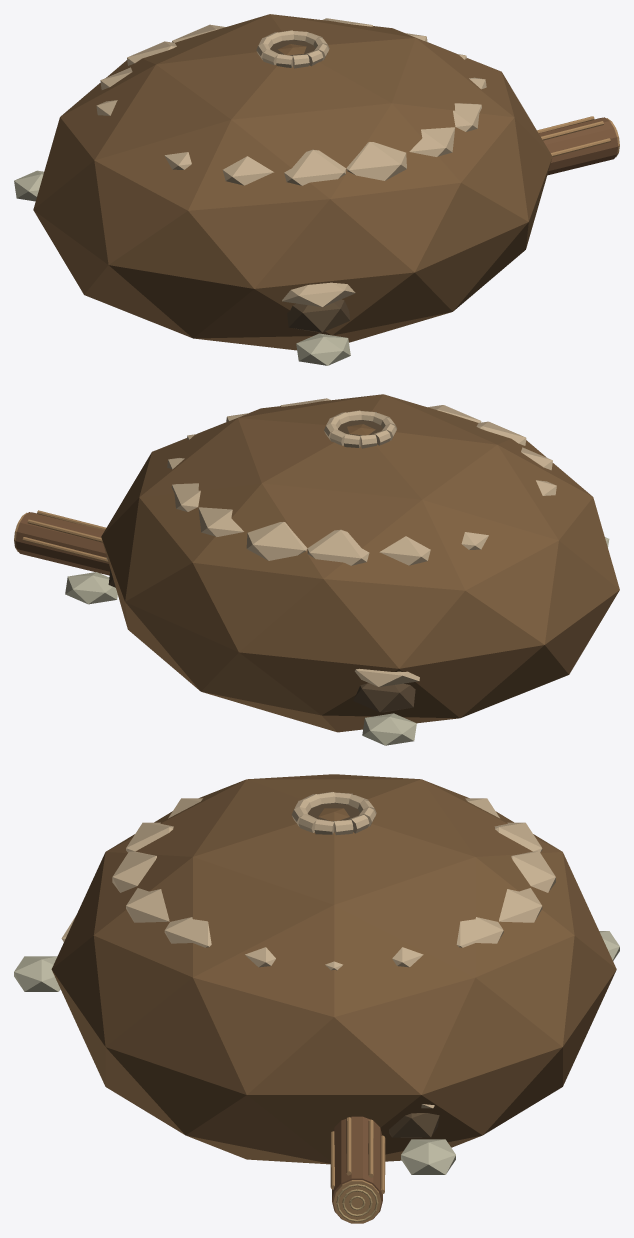
3 views of the same model, one above another, from view 1: azimuth 30°, elevation 25°; view 2: azimuth 150°, elevation 25°; view 3: azimuth 270°, elevation 25° (orthographic). The views are drawn at different scales.
Visible parts, largest first — view 1: WW-005 Earth-covered charcoal mound batched; view 2: WW-005 Earth-covered charcoal mound batched; view 3: WW-005 Earth-covered charcoal mound batched.
Boxes of the visible parts, x1,y1,x2,y2 form: WW-005 Earth-covered charcoal mound batched: [14, 14, 619, 365]; WW-005 Earth-covered charcoal mound batched: [14, 394, 619, 745]; WW-005 Earth-covered charcoal mound batched: [14, 774, 619, 1223].
Bounding box in the file's own units: 3.18 × 1.52 × 2.62.
